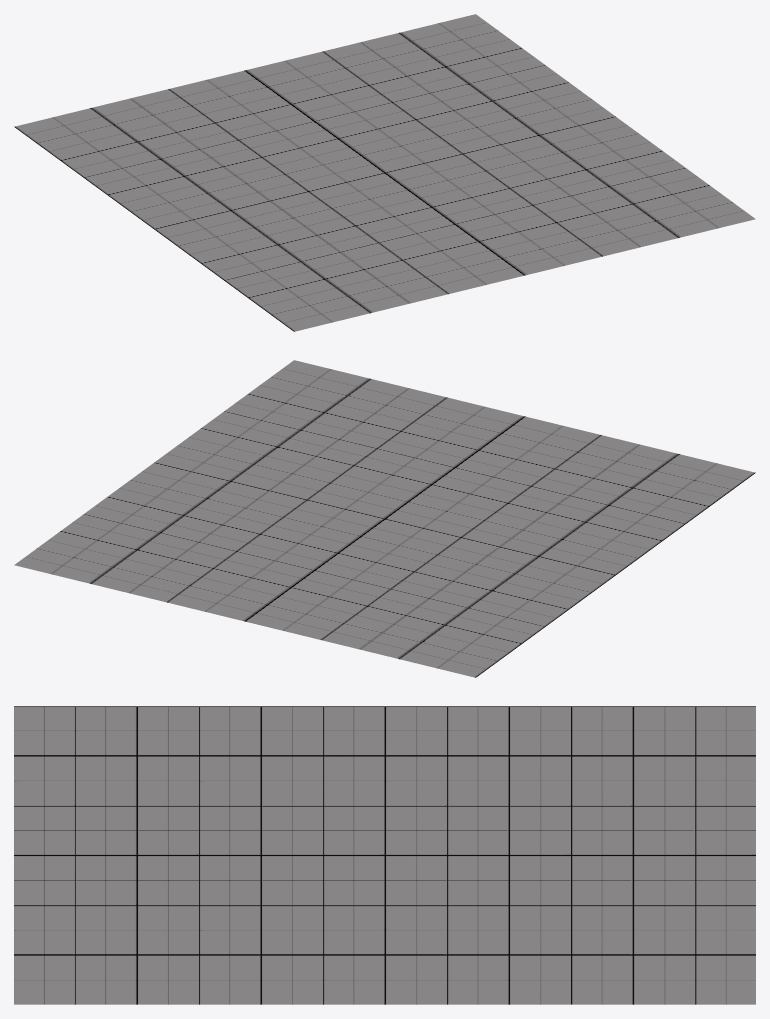
File: Floor.FBX
The picture shows the model from 3 angles, top to bottom: view 1: azimuth 30°, elevation 25°; view 2: azimuth 150°, elevation 25°; view 3: azimuth 270°, elevation 25°; orthographic projection. The views are drawn at different scales.
Parts seen in each view (by area): view 1: Plane001; view 2: Plane001; view 3: Plane001.
Boxes of the visible parts, x1,y1,x2,y2 form: Plane001: (14,14,755,331); Plane001: (14,360,755,677); Plane001: (14,706,755,1004).
Bounding box in the file's own units: 607 × 3.91e-14 × 638.
Materials: 1 (1 with a texture image).
